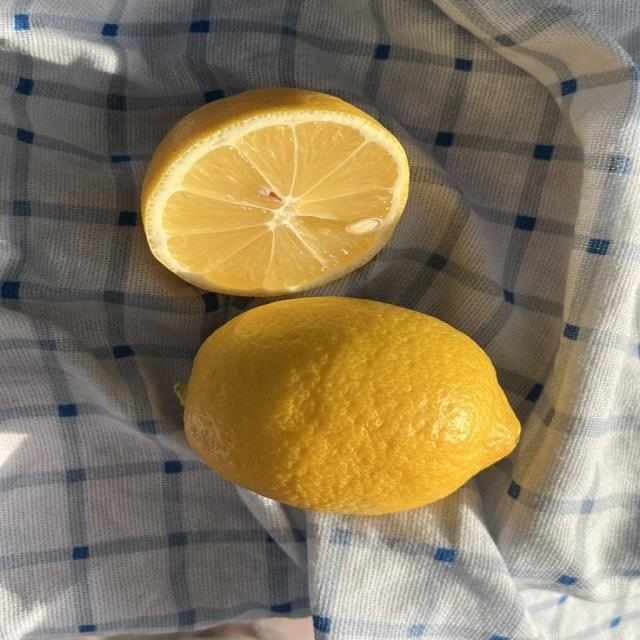lemon: (185, 297, 519, 514), (142, 88, 408, 296)
